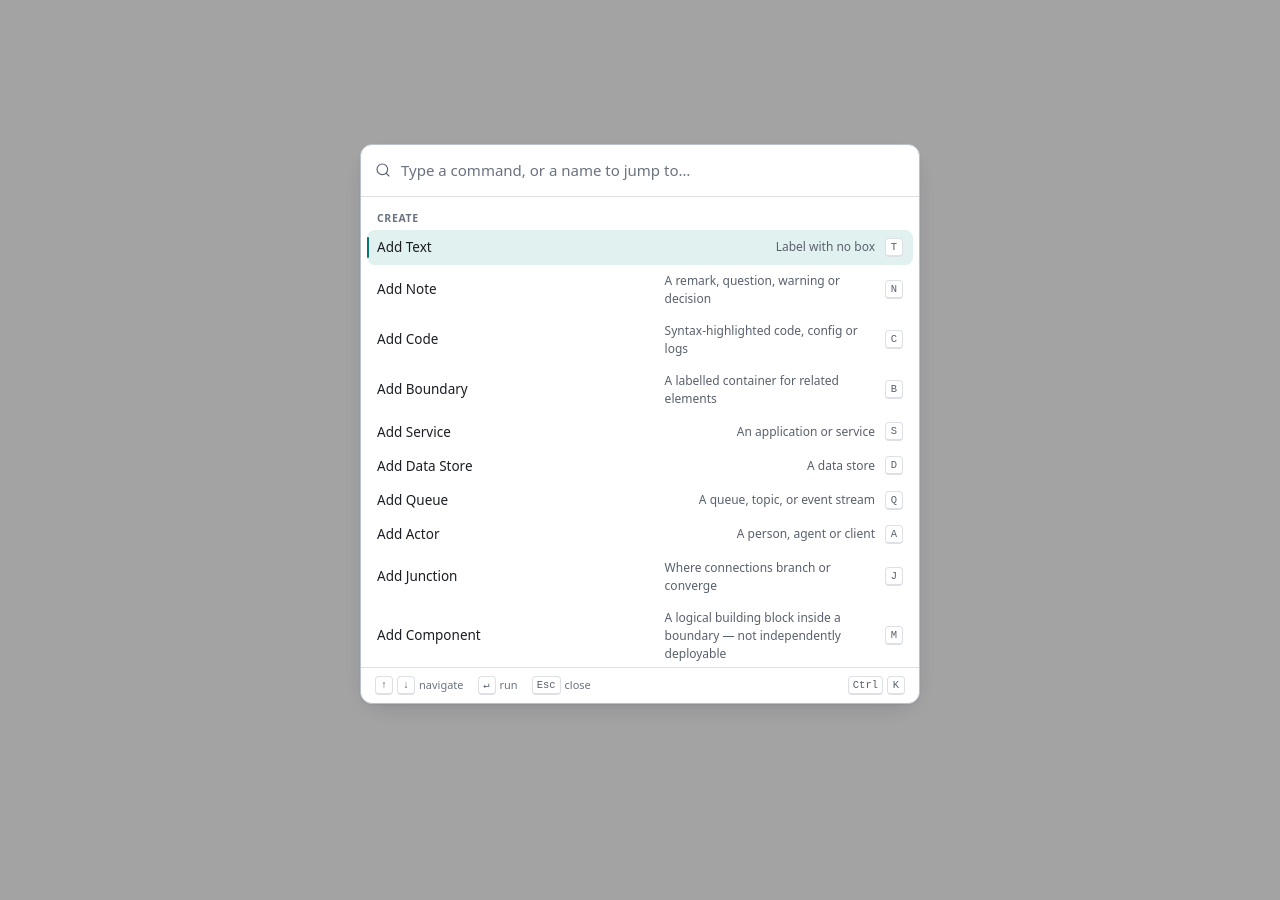
CommandPalette › a two-step command shows a breadcrumb, and Backspace on an empty query steps back
The width and height of the screenshot is (1280, 900).
Type "switch" into the dropdown at (653, 170), box [401, 157, 905, 184]
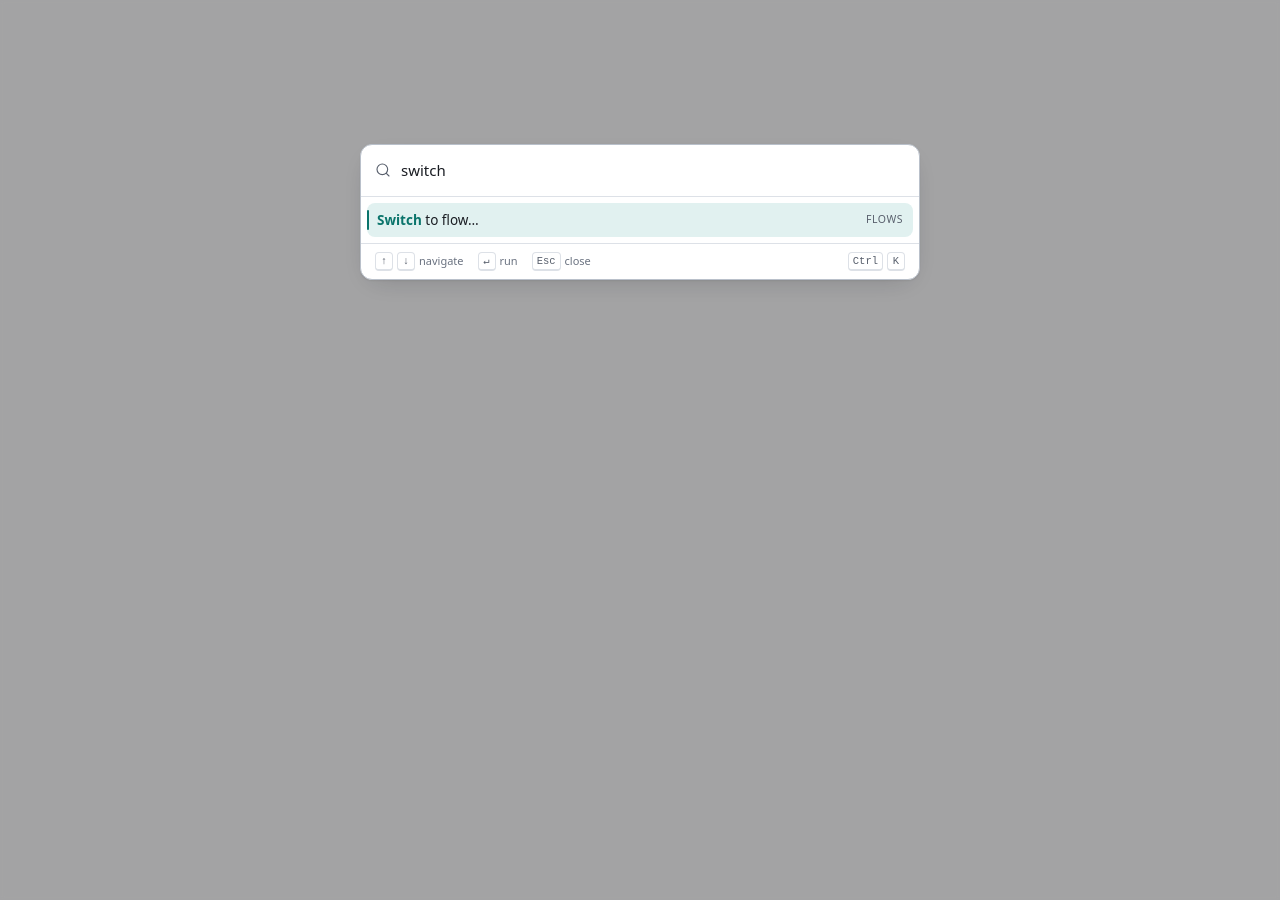
Result: the option shows "Switch to flow" at [367, 202, 913, 237]
Press Enter
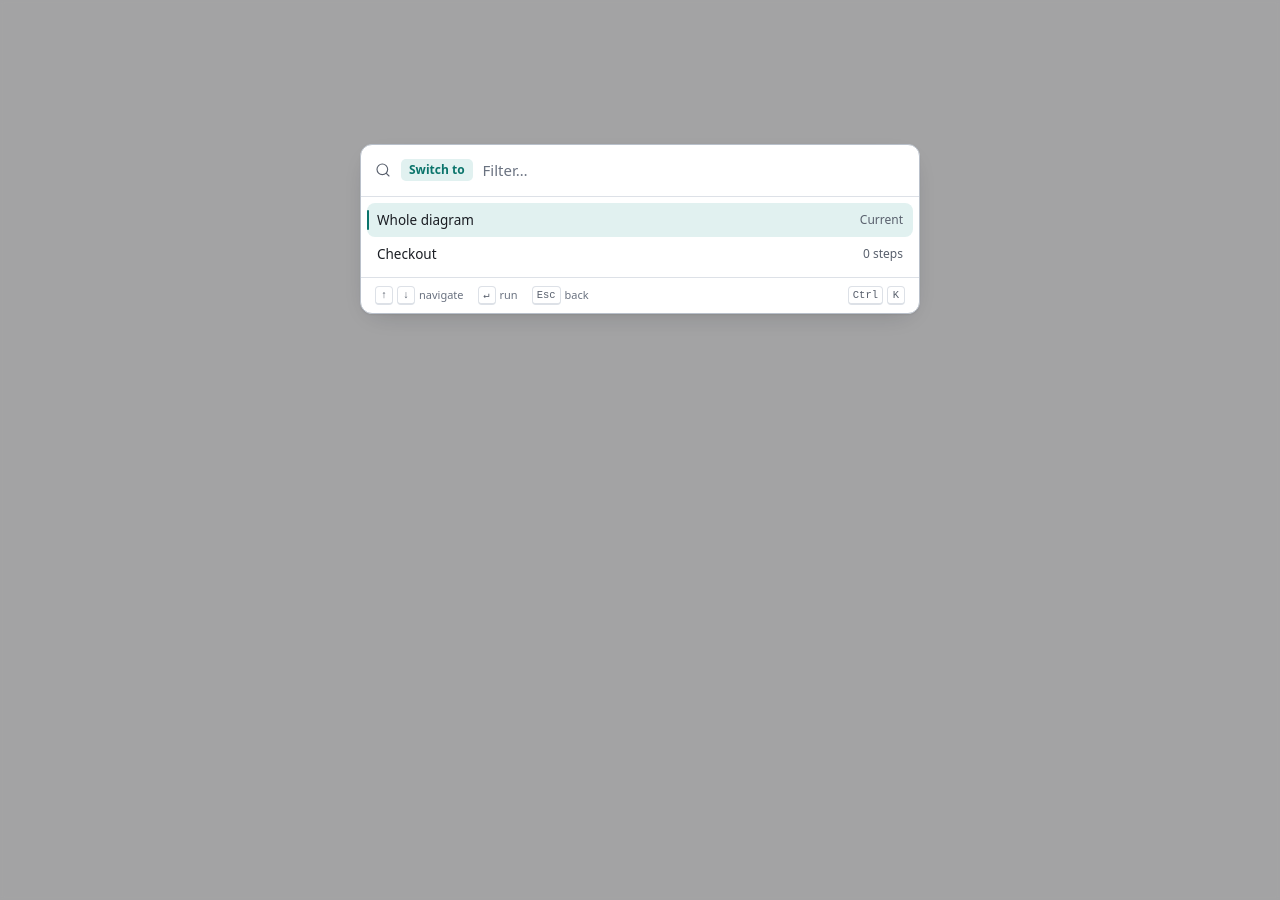
Press Backspace
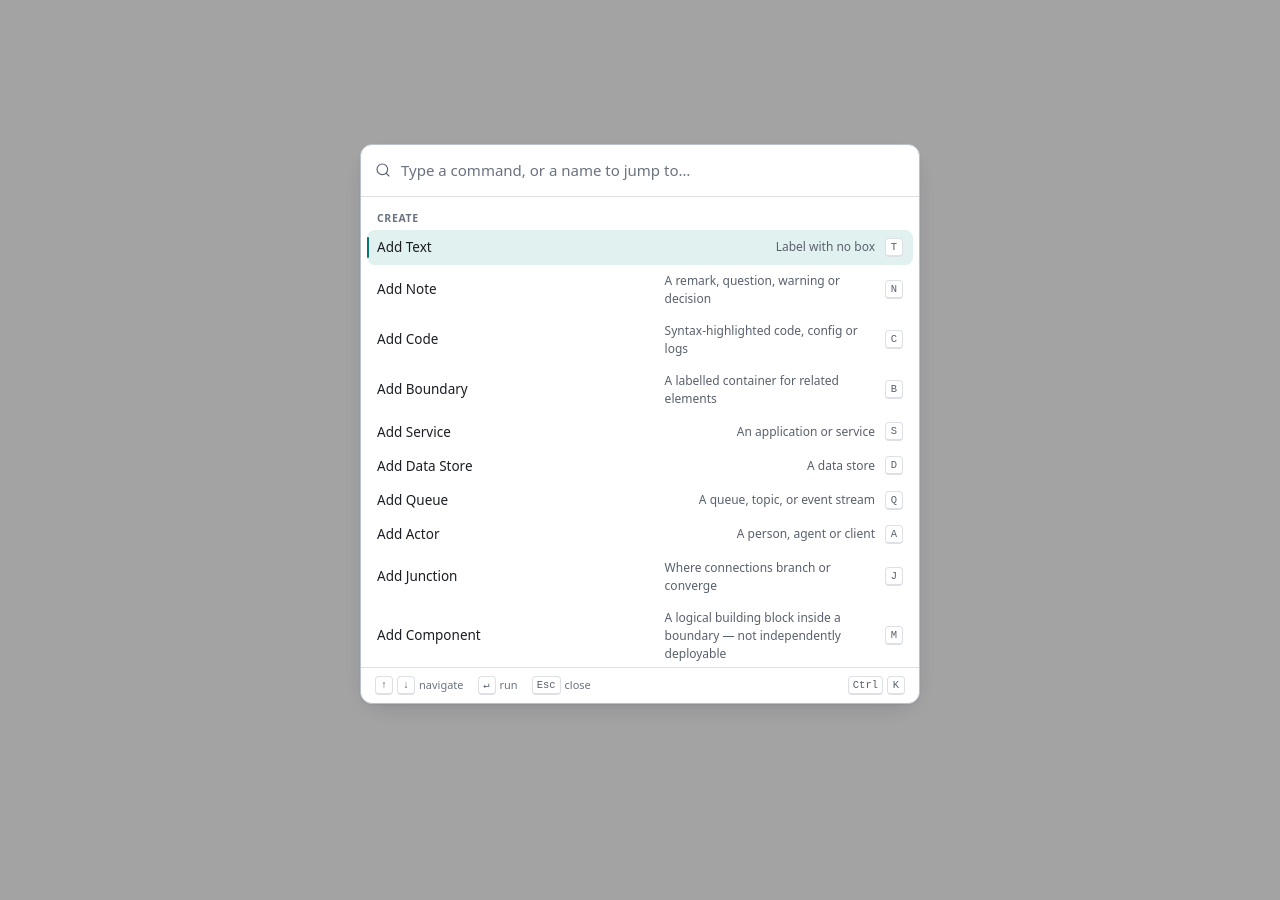
Result: the text "Switch to" is gone
